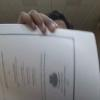notebook: (0, 23, 99, 99)
